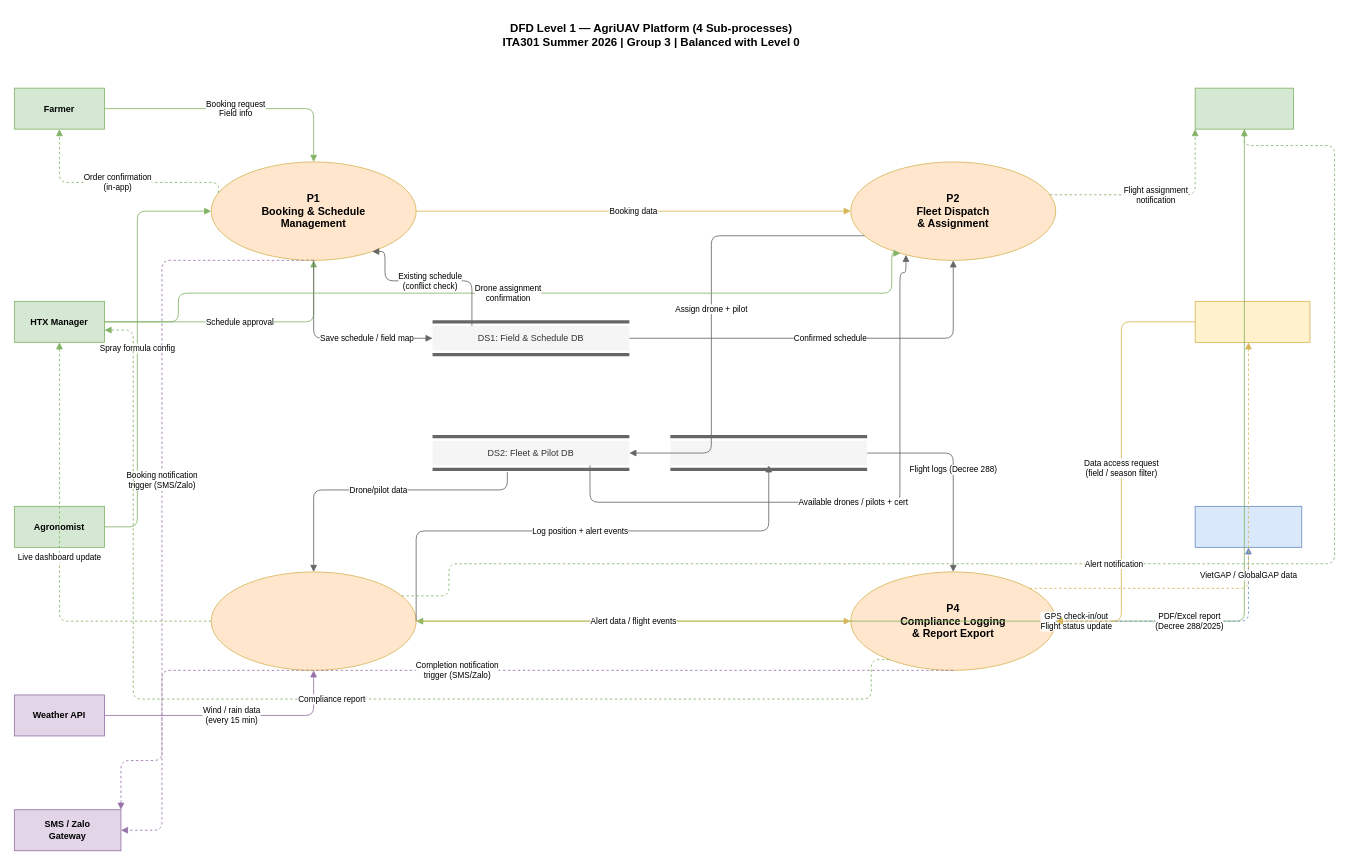
This 1355x865 diagram has some shape labels left out. The box of each missing label's shape, as (x1, y1, x2, y2) in pixels:
DS3: Flight Log DB: (670, 440, 867, 465)
Export Company (Trung An, Minh Phú): (1194, 301, 1310, 342)
Operator / Pilot: (1194, 87, 1294, 129)
P3 Real-time Monitoring & Alert: (210, 571, 416, 670)
Plant Protection Dept (Cục BVTV): (1194, 506, 1302, 547)
